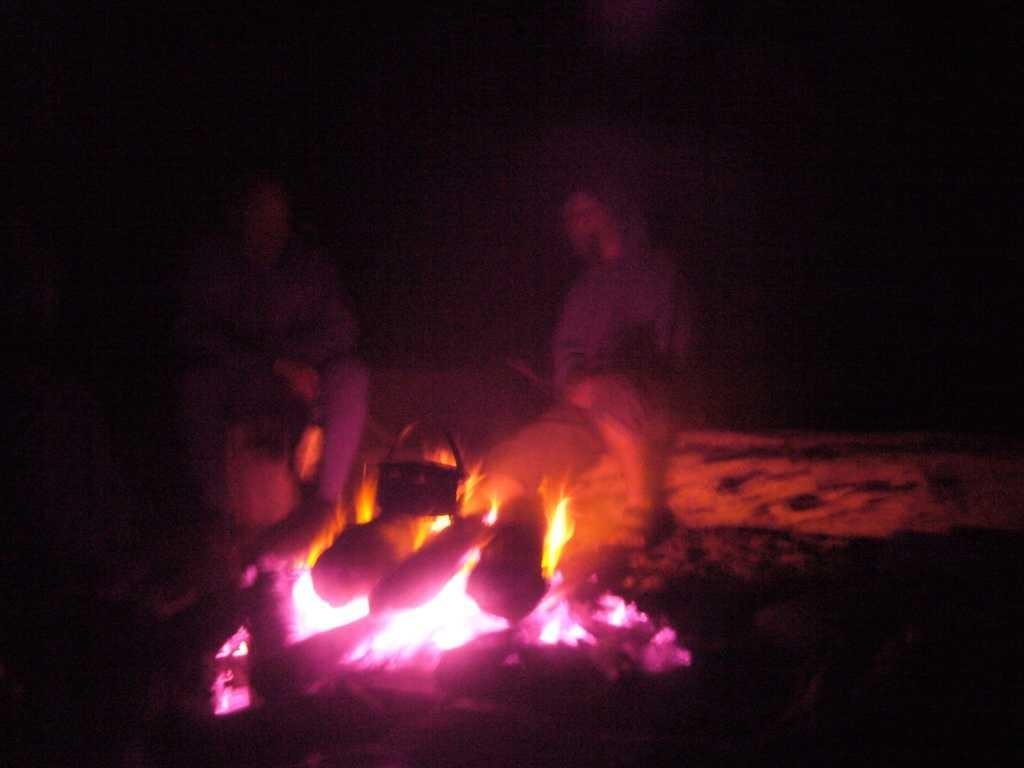fire: (282, 584, 460, 656), (544, 486, 594, 570), (536, 596, 596, 656), (468, 478, 506, 520), (346, 486, 382, 530)
